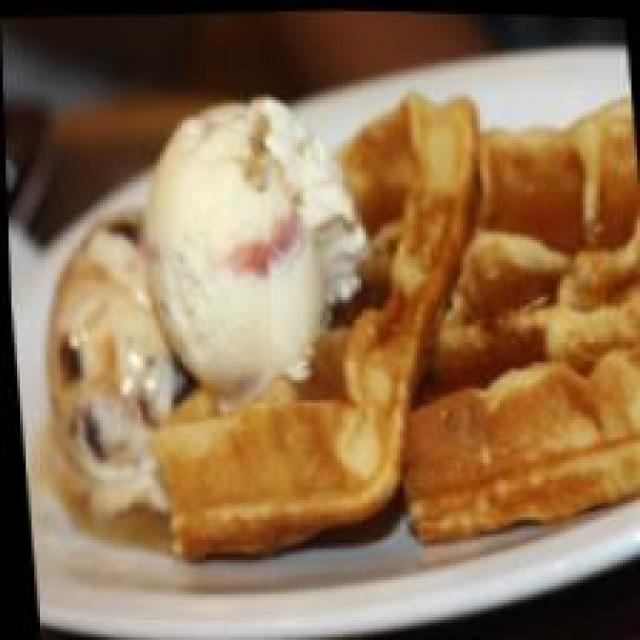Waffles: (288, 38, 640, 544)
